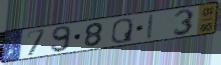3: (172, 8, 196, 37)
7: (26, 28, 46, 57)
8: (83, 22, 104, 48)
9: (49, 25, 73, 53)
I: (146, 13, 156, 41)
Q: (110, 17, 134, 44)
